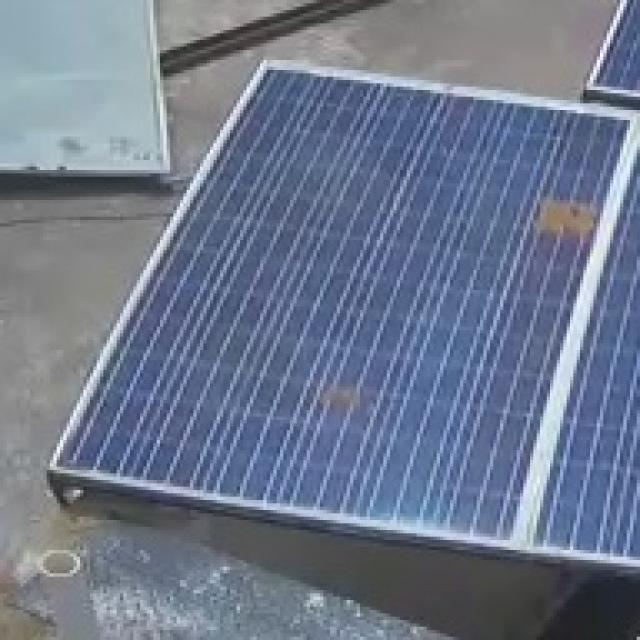Dusty: (526, 194, 599, 241), (315, 380, 368, 414)
